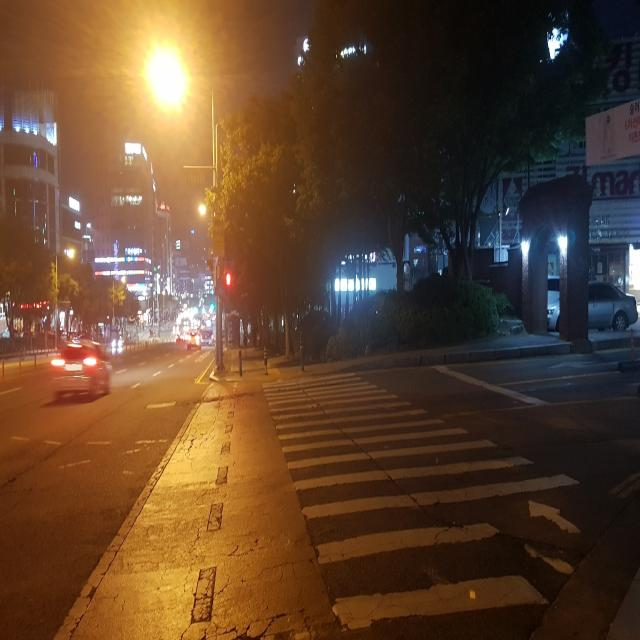빨간불: (224, 271, 232, 303)
횡단보도: (262, 373, 580, 631)
